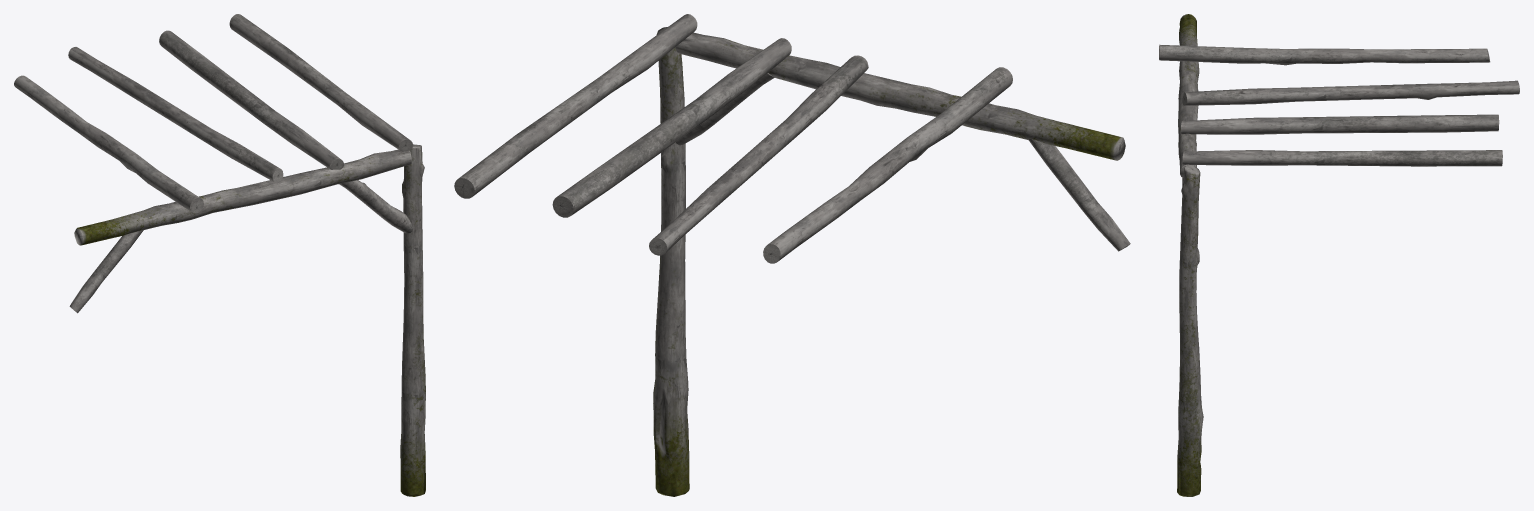
File: SM_SupportModule_6.fbx
The picture shows the model from 3 angles, left to right: view 1: azimuth 30°, elevation 25°; view 2: azimuth 150°, elevation 25°; view 3: azimuth 270°, elevation 25°; orthographic projection. The views are drawn at different scales.
Parts seen in each view (by area): view 1: SM_SupportModule_6_LOD0; view 2: SM_SupportModule_6_LOD0; view 3: SM_SupportModule_6_LOD0.
Boxes of the visible parts, x1,y1,x2,y2 form: SM_SupportModule_6_LOD0: (14, 14, 425, 496); SM_SupportModule_6_LOD0: (454, 14, 1130, 496); SM_SupportModule_6_LOD0: (1159, 14, 1519, 496).
Size of the model in its own units: 312 by 293 by 305.
